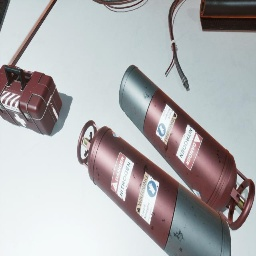FirstAidBox ,: (0, 64, 62, 135)
NitrogenTank ,: (119, 65, 255, 230), (77, 120, 231, 256)
